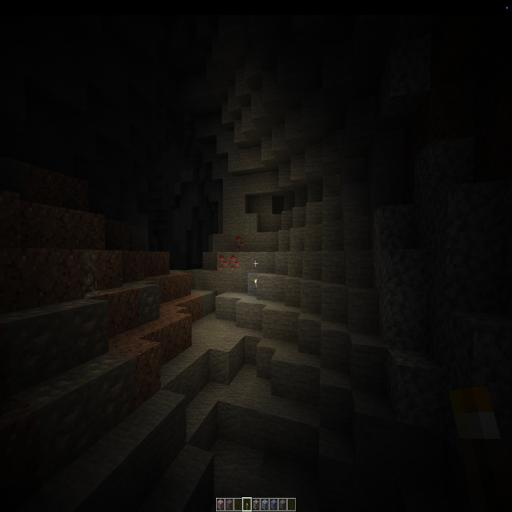iron ore: (0, 298, 128, 450), (128, 282, 160, 322)
redstone ore: (216, 233, 246, 274)
